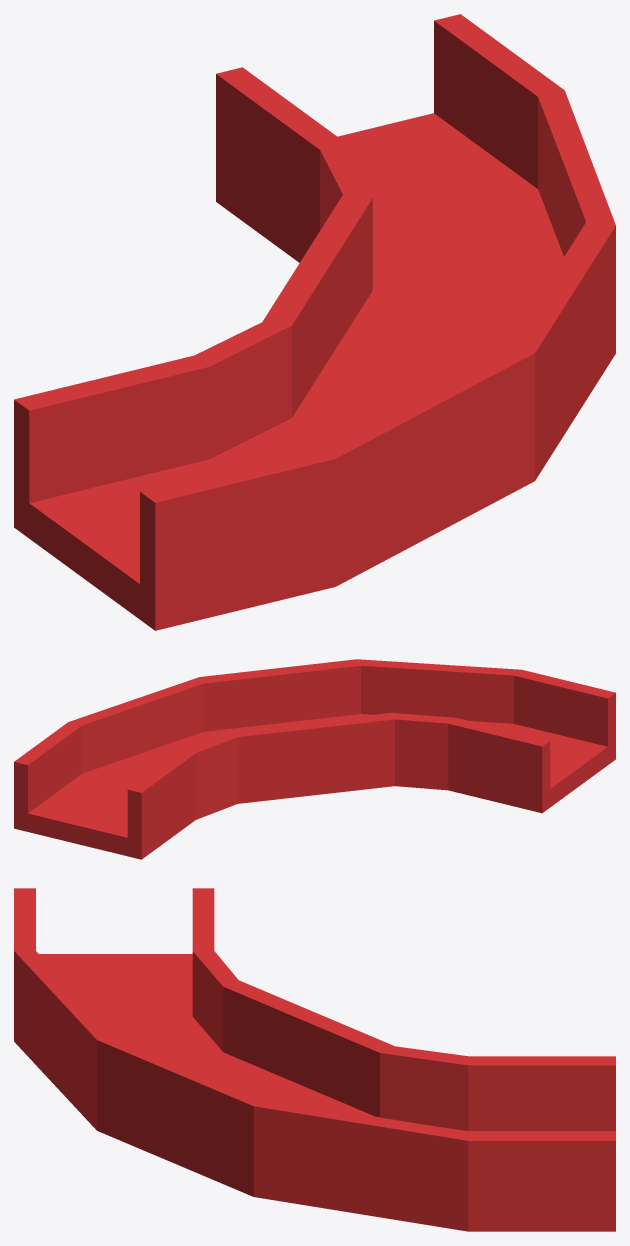
The model's file is pistaHotWheelsCurva.fbx.
3 renders of one model, top to bottom at view 1: azimuth 30°, elevation 25°; view 2: azimuth 150°, elevation 25°; view 3: azimuth 270°, elevation 25°, orthographic. The views are drawn at different scales.
Parts seen in each view (by area): view 1: Cube.001; view 2: Cube.001; view 3: Cube.001.
Boxes of the visible parts, box(x1,y1,x2,y2) form: Cube.001: box(14, 14, 615, 630); Cube.001: box(14, 659, 615, 859); Cube.001: box(14, 888, 615, 1231).
Bounding box in the file's own units: 5.97 × 6.01 × 0.9999.
